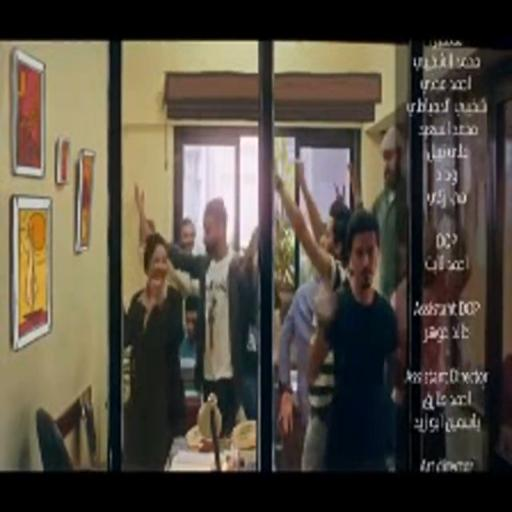nao-violencia: (122, 160, 259, 469)
